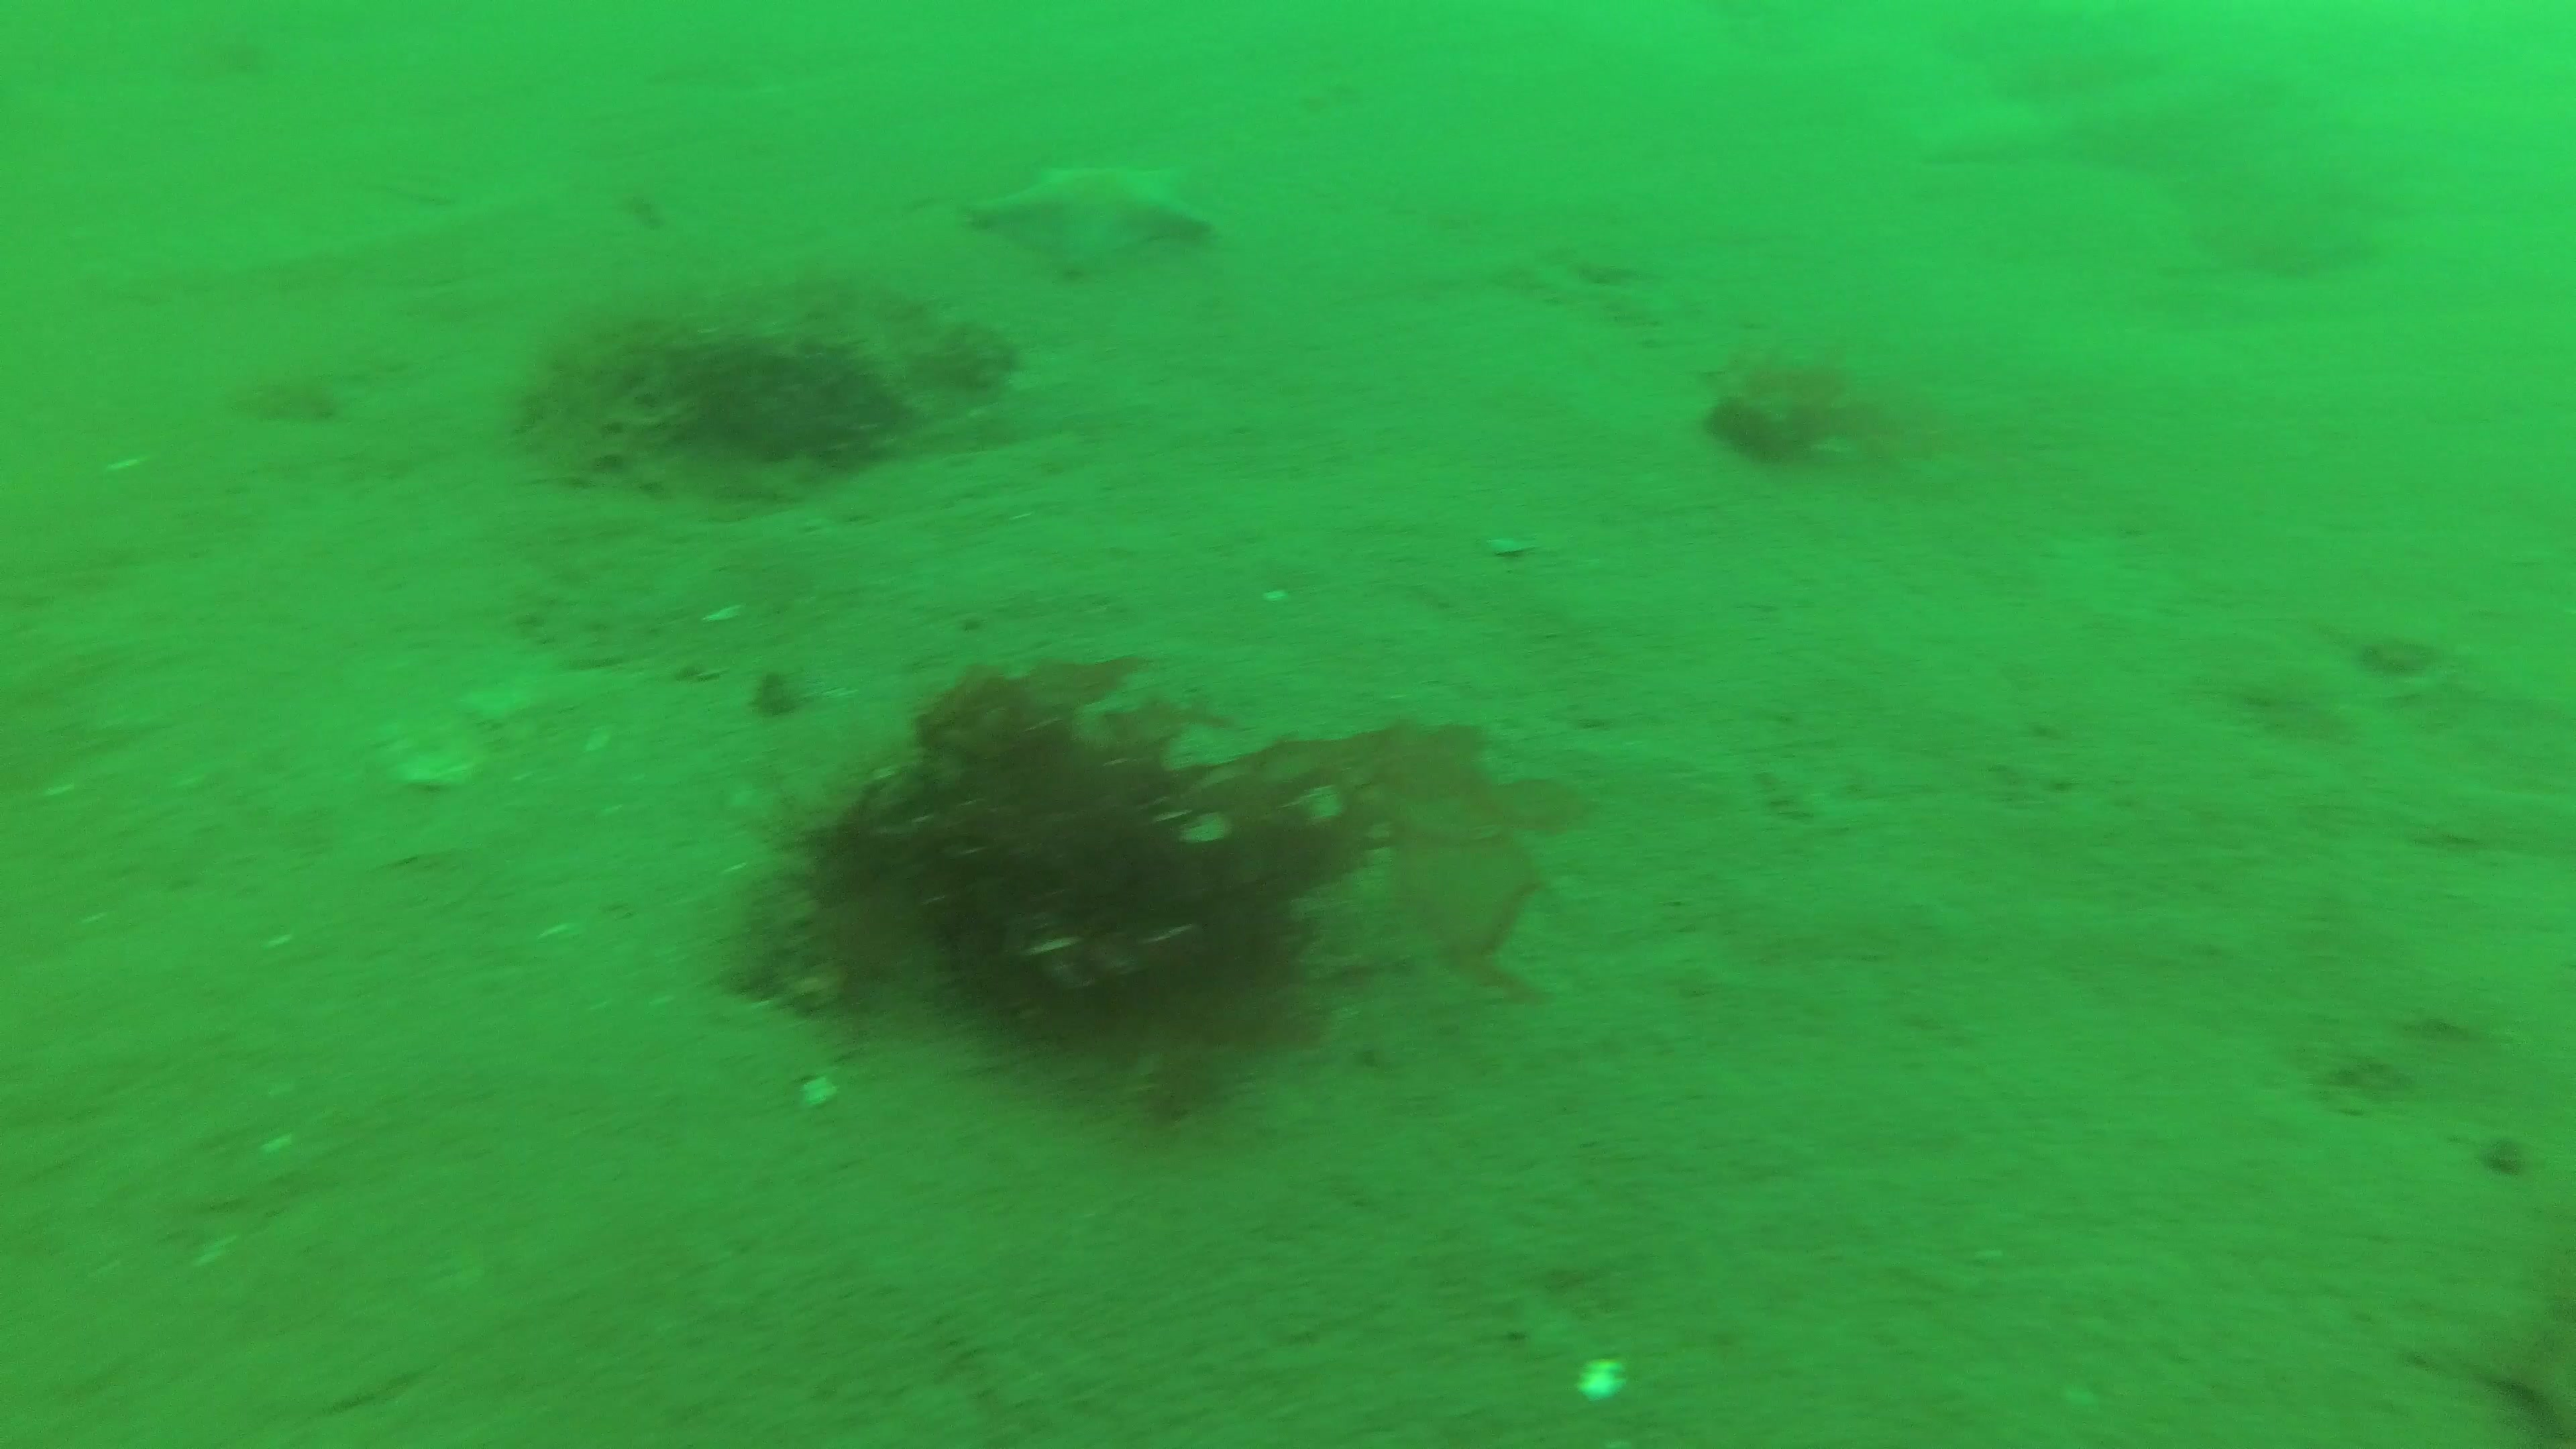starfish: (962, 157, 1214, 283)
